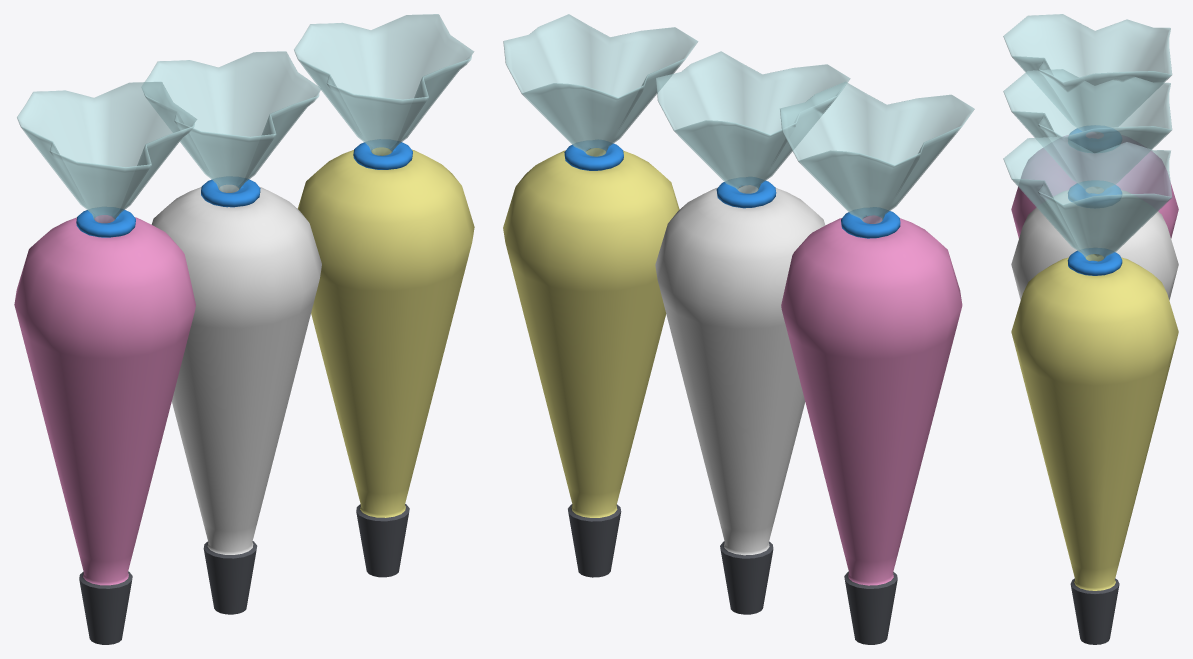
The model's file is manga pasteleras.fbx.
The picture shows the model from 3 angles, left to right: view 1: azimuth 30°, elevation 25°; view 2: azimuth 150°, elevation 25°; view 3: azimuth 270°, elevation 25°; orthographic projection. The views are drawn at different scales.
Visible parts, largest first — view 1: Cone.001, Cone.002, Cone; view 2: Cone.001, Cone.002, Cone; view 3: Cone.002, Cone, Cone.001.
Boxes of the visible parts, left/top/right/bottom form: Cone.001: left=14, top=81, right=196, bottom=644; Cone.002: left=294, top=14, right=474, bottom=577; Cone: left=142, top=51, right=321, bottom=614; Cone.001: left=780, top=81, right=974, bottom=644; Cone.002: left=503, top=14, right=697, bottom=577; Cone: left=655, top=51, right=850, bottom=614; Cone.002: left=1003, top=136, right=1178, bottom=644; Cone: left=1003, top=69, right=1178, bottom=300; Cone.001: left=1003, top=14, right=1178, bottom=238.
Bounding box in the file's own units: 206 × 237 × 79.24.
